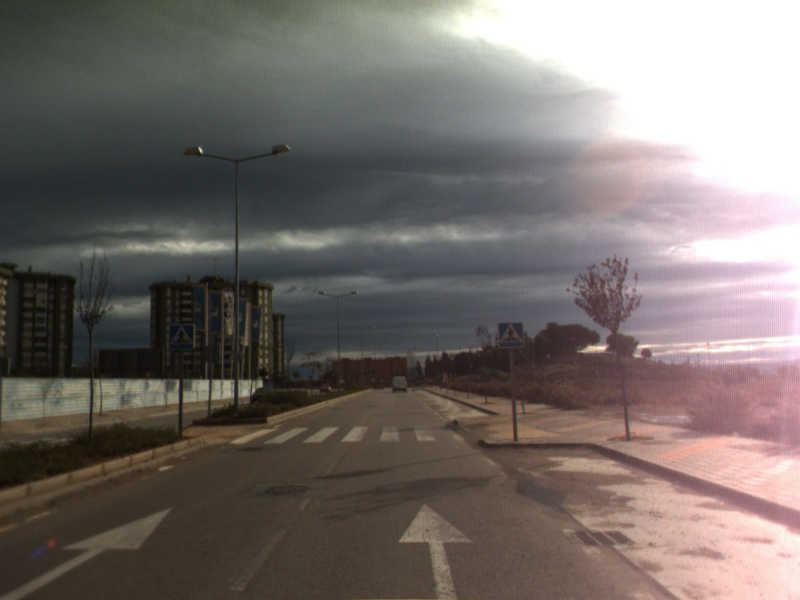STRAIGHT: (1, 504, 175, 600), (397, 501, 475, 600)
